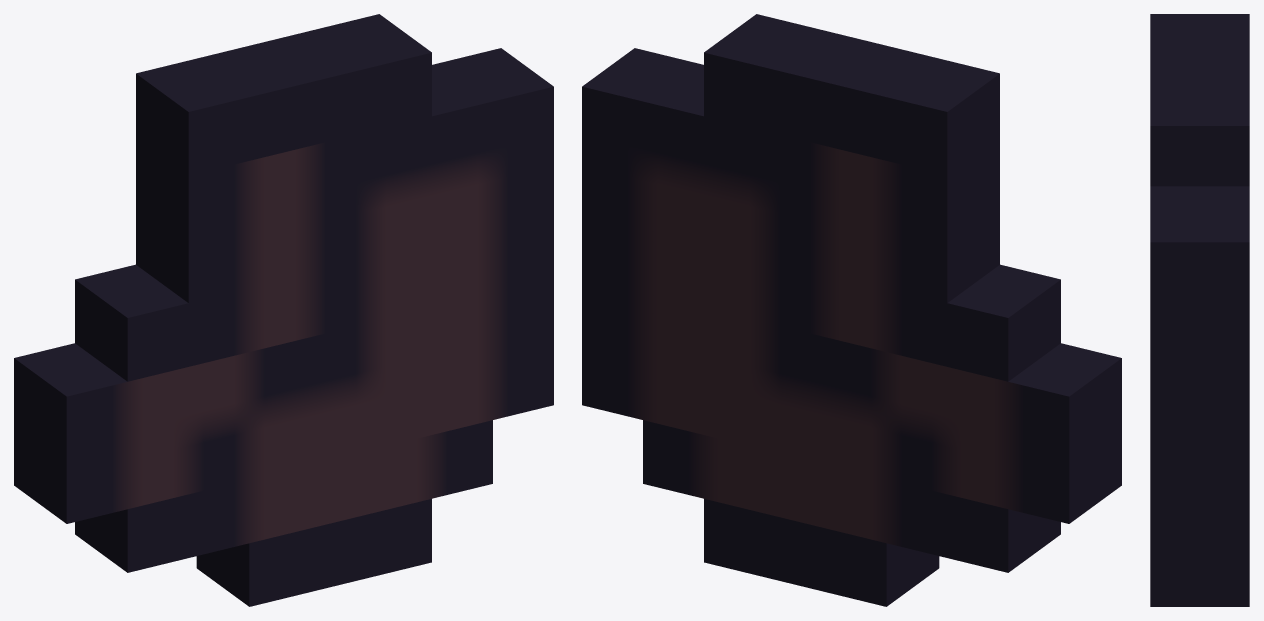
Rendered from Leather_Boots.fbx.
3 views of the same model, side by side, from view 1: azimuth 30°, elevation 25°; view 2: azimuth 150°, elevation 25°; view 3: azimuth 270°, elevation 25° (orthographic). The views are drawn at different scales.
Visible parts, largest first — view 1: Leather_Boots; view 2: Leather_Boots; view 3: Leather_Boots.
Boxes of the visible parts, x1=… form: Leather_Boots: x1=14, y1=14, x2=553, y2=606; Leather_Boots: x1=582, y1=14, x2=1121, y2=606; Leather_Boots: x1=1150, y1=14, x2=1249, y2=606.
Size of the model in its own units: 16 by 16 by 3.
1 material, 1 textured.
